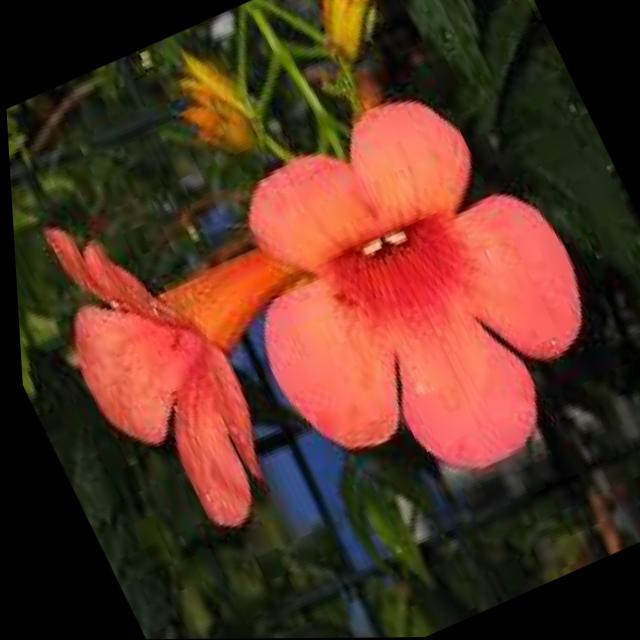Flower: (186, 62, 638, 517), (19, 174, 326, 568)
